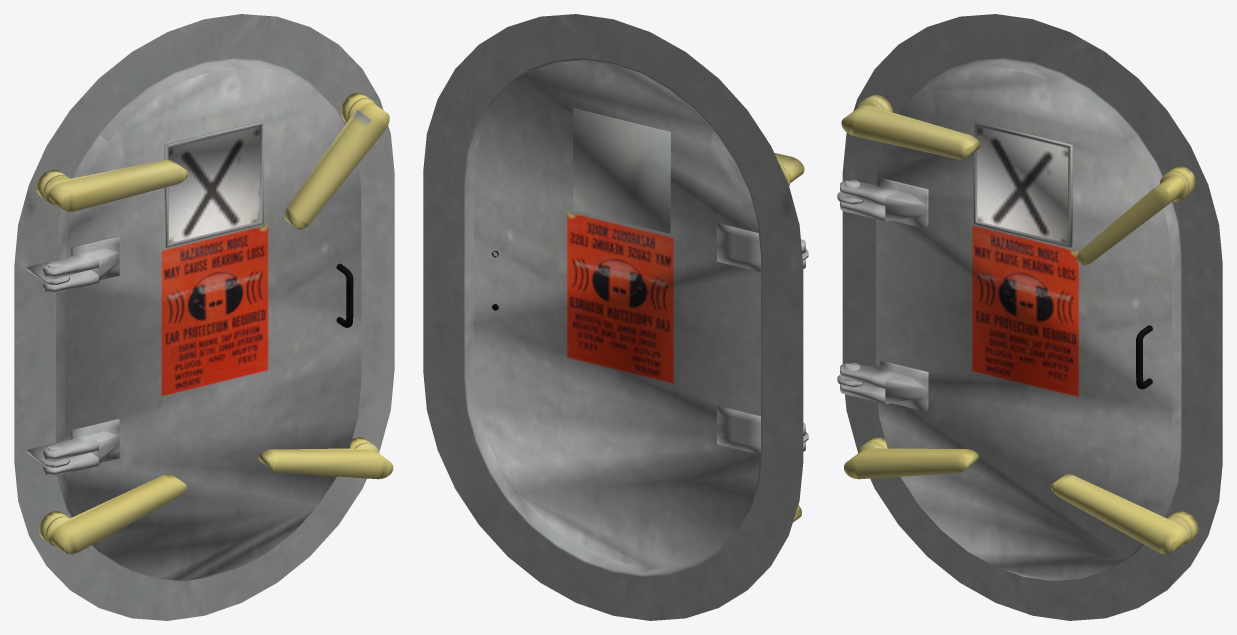
Rendered from emergency_Hatch.obj.
3 renders of one model, left to right at view 1: azimuth 30°, elevation 25°; view 2: azimuth 150°, elevation 25°; view 3: azimuth 330°, elevation 25°, orthographic.
Visible parts, largest first — view 1: emergency_Hatch.obj; view 2: emergency_Hatch.obj; view 3: emergency_Hatch.obj.
Part boxes in pixels (left/top/right/bottom): emergency_Hatch.obj: left=14, top=14, right=394, bottom=620; emergency_Hatch.obj: left=423, top=14, right=808, bottom=620; emergency_Hatch.obj: left=837, top=14, right=1222, bottom=620.
Bounding box in the file's own units: 3.56 × 5.34 × 0.3917.
